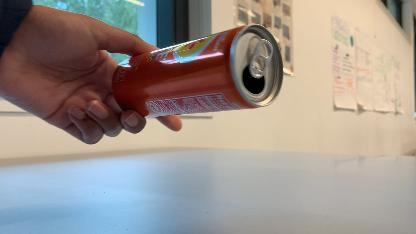Can: (104, 24, 286, 122)
